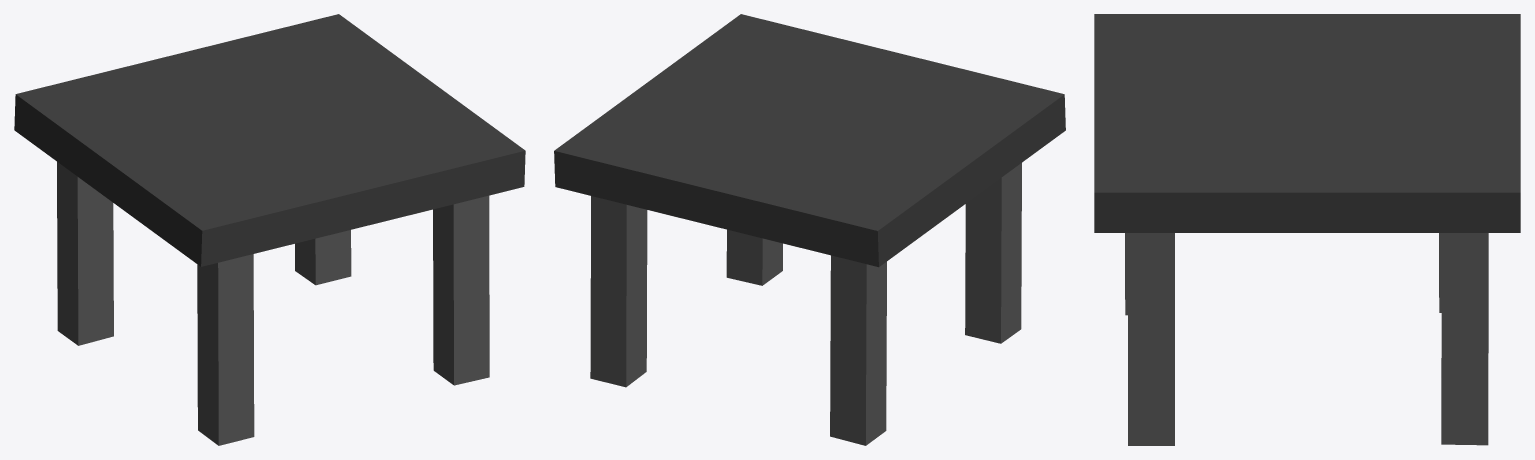
The model's file is Table_10.fbx.
3 views of the same model, side by side, from view 1: azimuth 30°, elevation 25°; view 2: azimuth 150°, elevation 25°; view 3: azimuth 270°, elevation 25° (orthographic). The views are drawn at different scales.
Visible parts, largest first — view 1: Table_10; view 2: Table_10; view 3: Table_10.
Boxes of the visible parts, x1,y1,x2,y2 form: Table_10: (14, 14, 525, 445); Table_10: (554, 14, 1065, 445); Table_10: (1094, 14, 1520, 445).
Bounding box in the file's own units: 87.08 × 86.76 × 59.88.
